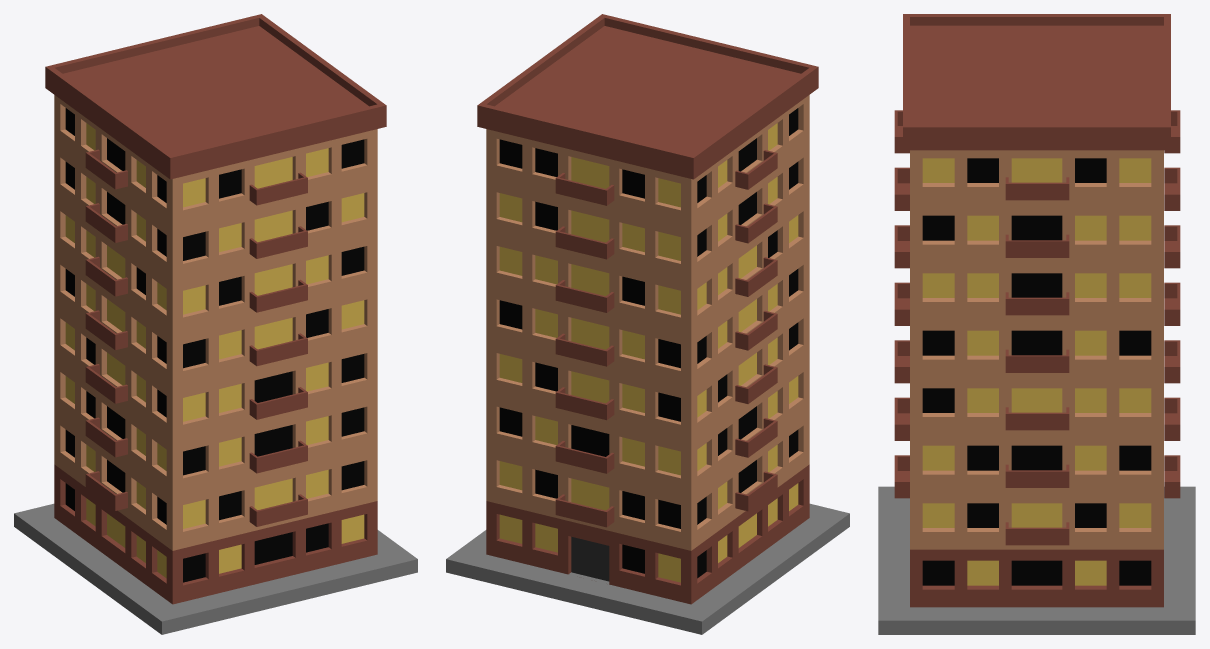
File: HouseTier3.fbx
3 renders of one model, left to right at view 1: azimuth 30°, elevation 25°; view 2: azimuth 150°, elevation 25°; view 3: azimuth 270°, elevation 25°, orthographic. The views are drawn at different scales.
Parts seen in each view (by area): view 1: Cube.001; view 2: Cube.001; view 3: Cube.001.
Boxes of the visible parts, <box> form: Cube.001: <box>14,14,417,634</box>; Cube.001: <box>446,14,849,634</box>; Cube.001: <box>878,14,1195,634</box>.
Bounding box in the file's own units: 2000 × 3460 × 2000.
